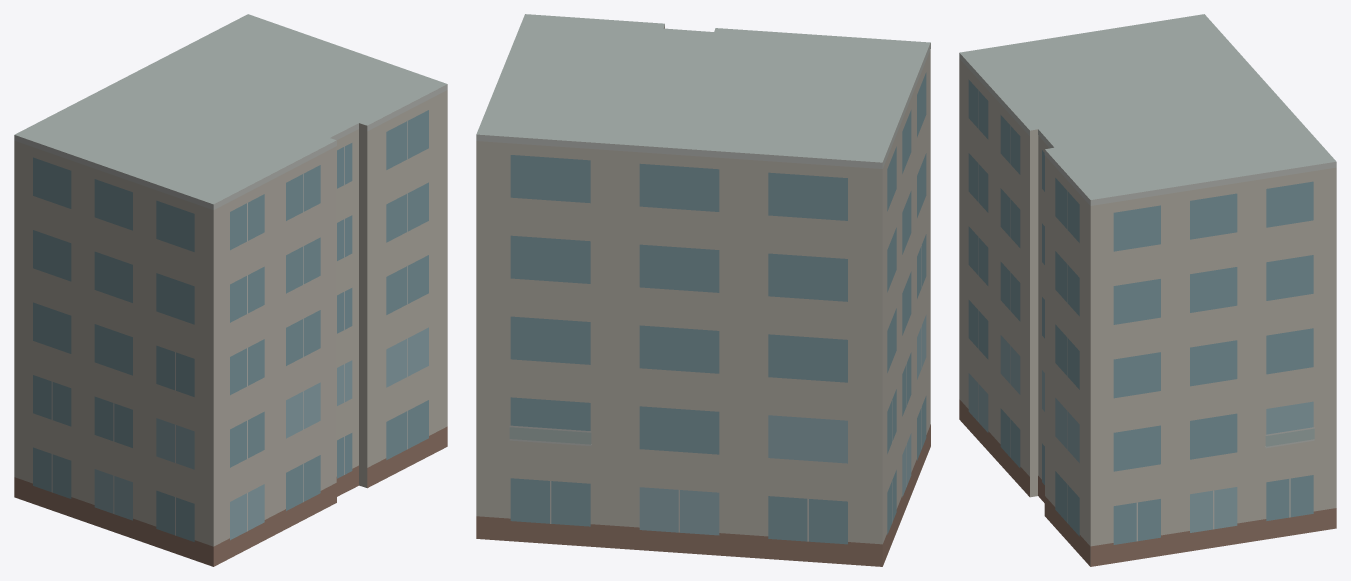
File: survey-upis-32862043.glb
The picture shows the model from 3 angles, left to right: view 1: azimuth 30°, elevation 25°; view 2: azimuth 150°, elevation 25°; view 3: azimuth 270°, elevation 25°; orthographic projection. The views are drawn at different scales.
Visible parts, largest first — view 1: survey-upis-32862043.tmp; view 2: survey-upis-32862043.tmp; view 3: survey-upis-32862043.tmp.
Part boxes in pixels (x1,y1,x2,y2): survey-upis-32862043.tmp: (14,14,447,566); survey-upis-32862043.tmp: (476,14,930,566); survey-upis-32862043.tmp: (959,14,1336,566).
Bounding box in the file's own units: 16.61 × 15.25 × 14.23.
